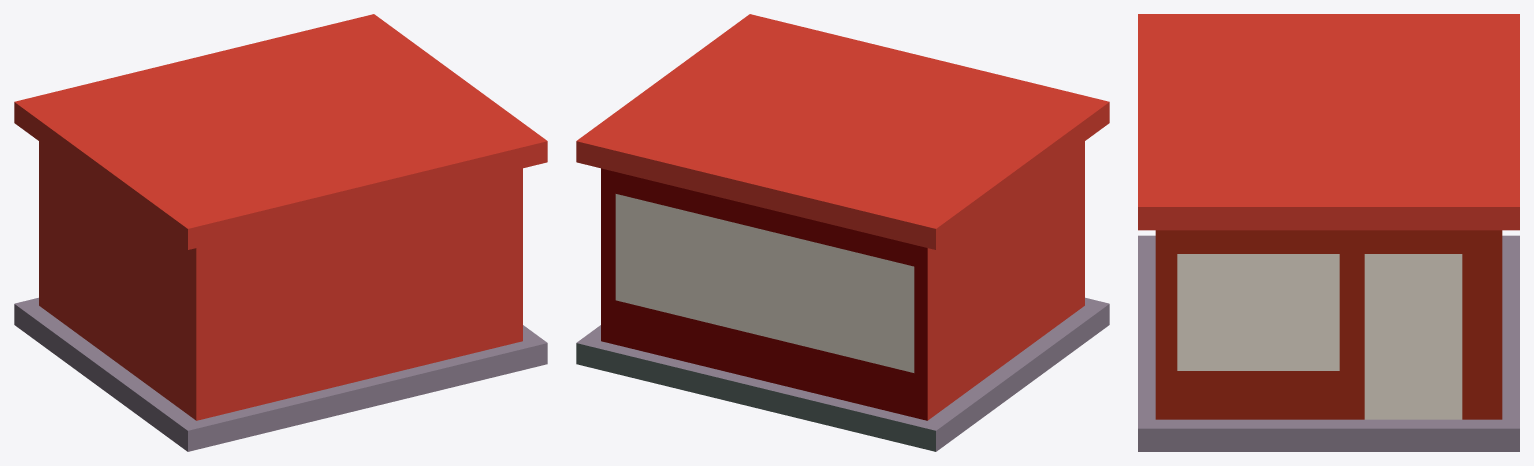
Rendered from Kpp.fbx.
3 renders of one model, left to right at view 1: azimuth 30°, elevation 25°; view 2: azimuth 150°, elevation 25°; view 3: azimuth 270°, elevation 25°, orthographic. The views are drawn at different scales.
Parts seen in each view (by area): view 1: KPP; view 2: KPP; view 3: KPP.
Boxes of the visible parts, <box> form: KPP: <box>14,14,547,451</box>; KPP: <box>576,14,1109,451</box>; KPP: <box>1138,14,1519,451</box>.
Size of the model in its own units: 72.22 by 42.76 by 60.37.
